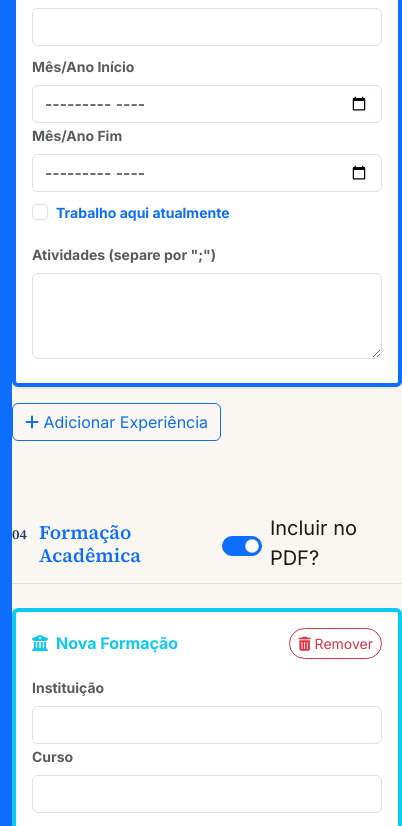
CurriculoForm › adiciona um novo bloco de experiência ao clicar em Adicionar Experiência
The image size is (402, 826).
(page scrolled)
Click the button "Adicionar Experiência" at {"x": 117, "y": 422}, box left=12, top=403, right=221, bottom=441
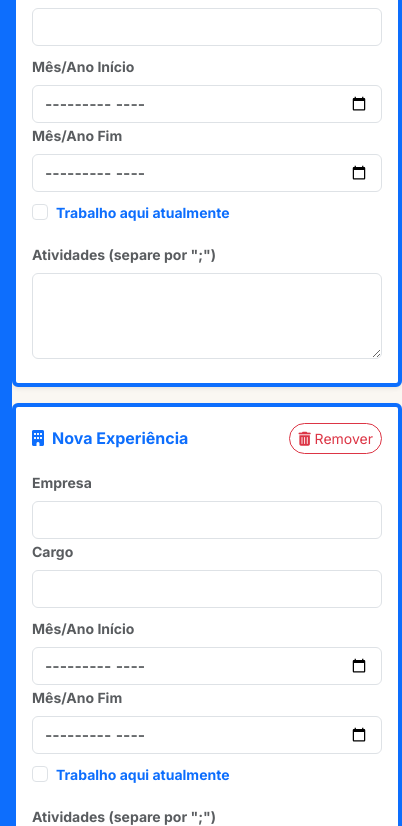
Expected: the text "Nova Experiência" is shown 2 times
